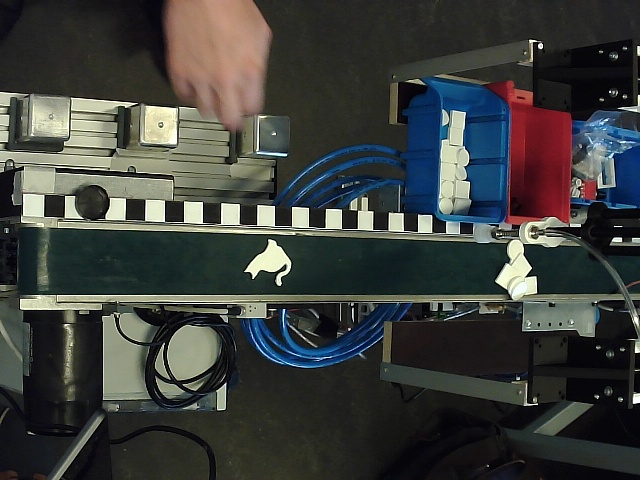cat: (243, 238, 293, 287)
